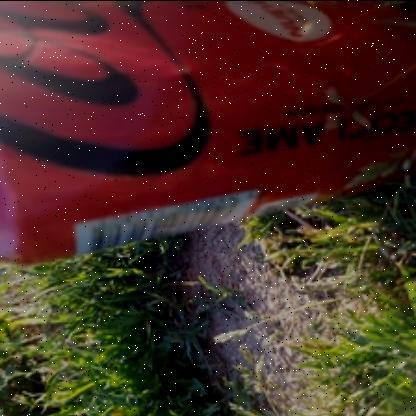Can: (0, 0, 416, 265)
